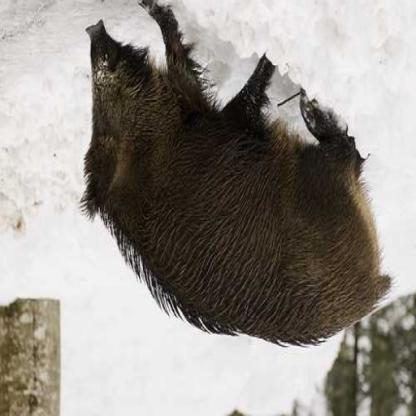boar: (51, 9, 400, 387)
